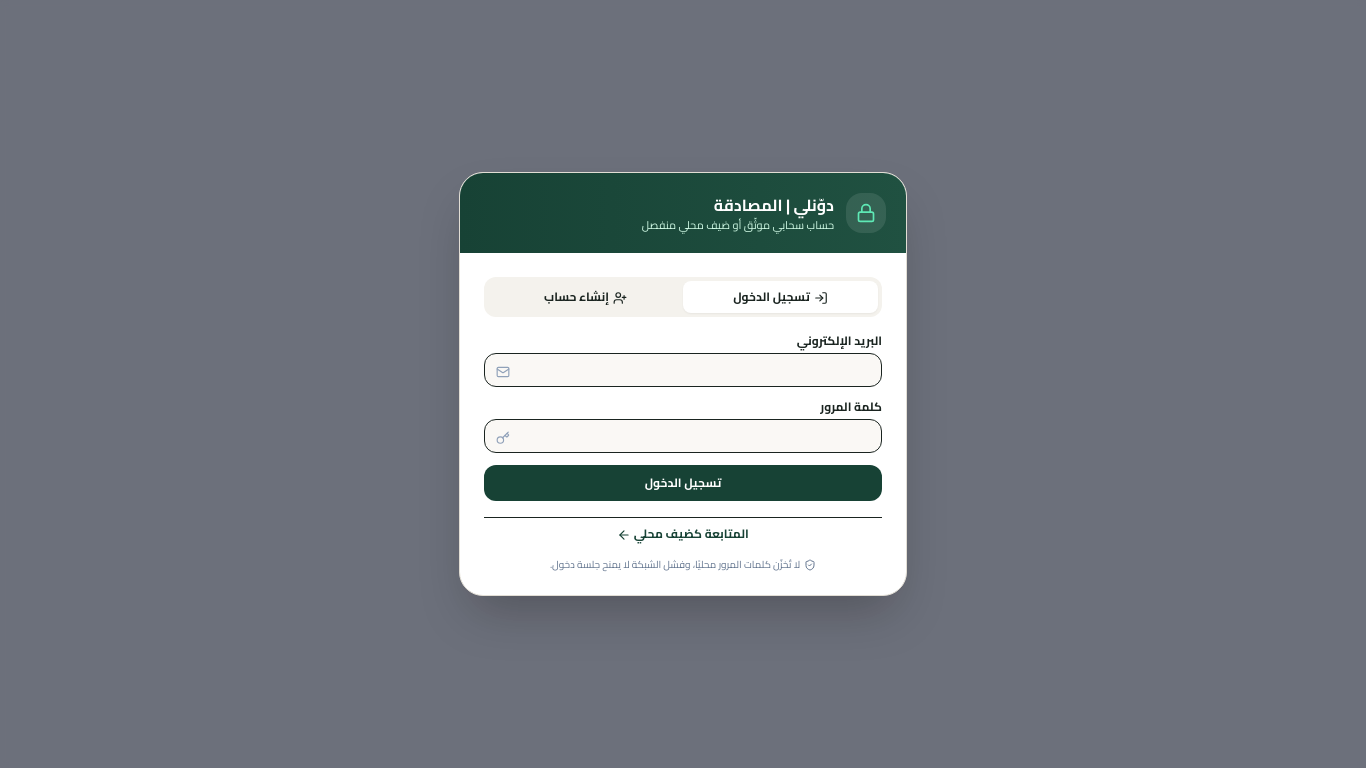
Test: AuthModal › shows a clear Arabic message for already registered emails
Click the button "إنشاء حساب".
click(586, 297)  # box [488,281,683,313]
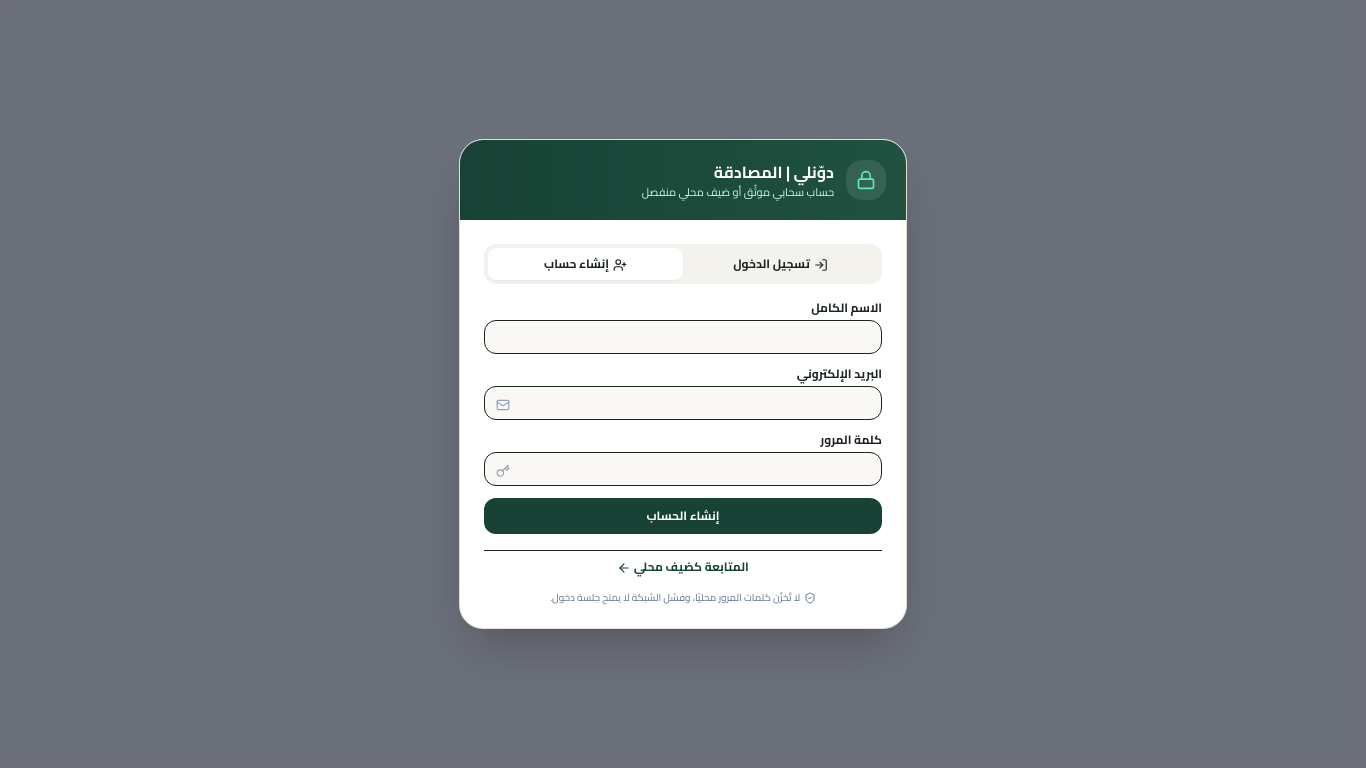
Type "مستخدم اختبار" into the field labelled "الاسم الكامل".
click(683, 337); type("مستخدم اختبار")  # box [484,320,882,354]
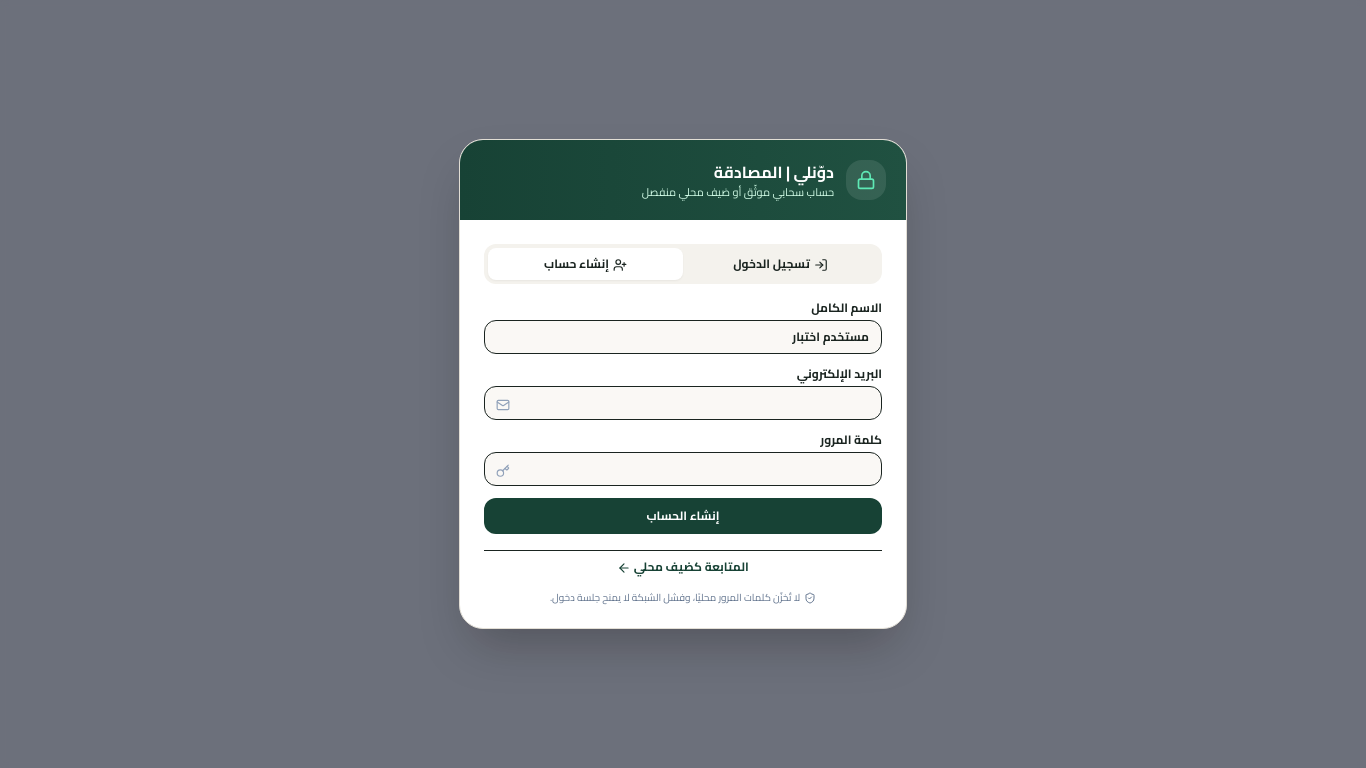
Type "user@gmail.com" into the field labelled "البريد الإلكتروني".
click(683, 403); type("user@gmail.com")  # box [484,386,882,420]
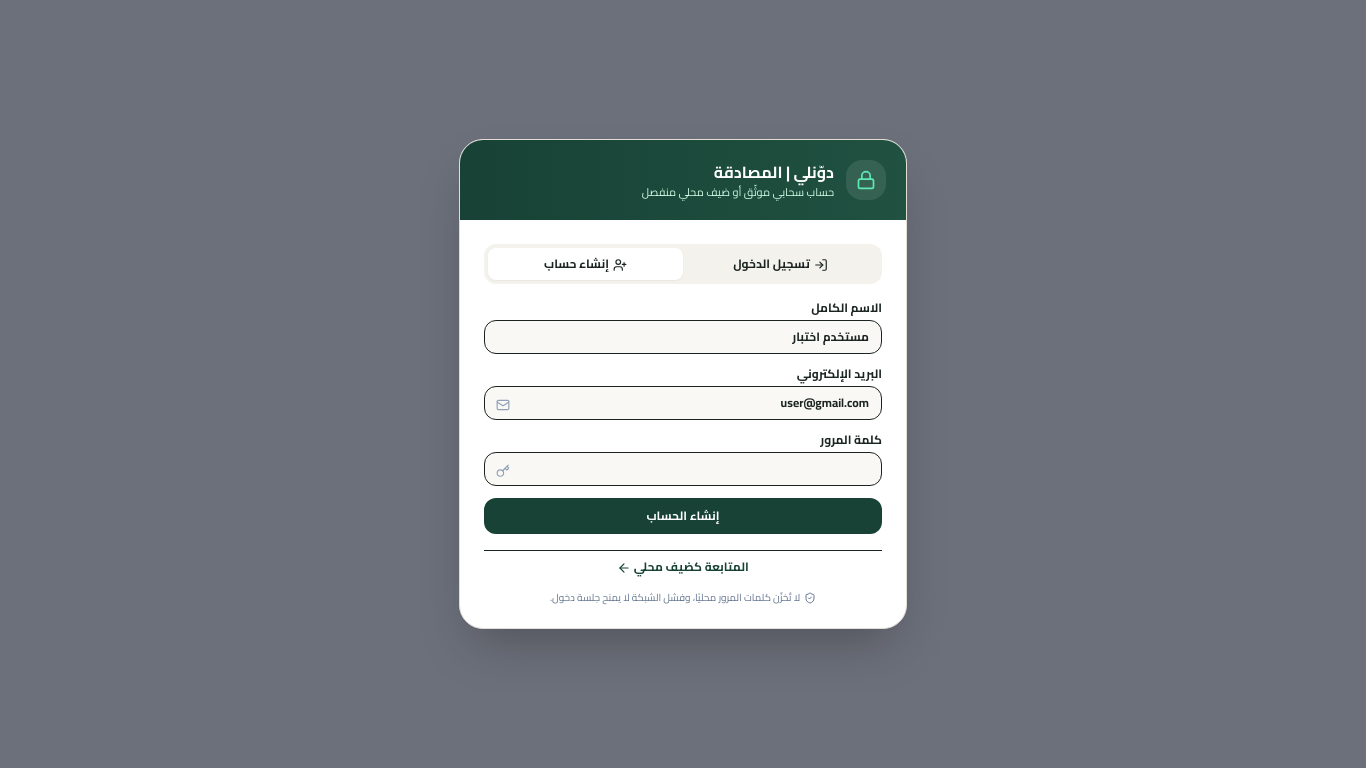
Type "StrongPass2026!" into the password field labelled "كلمة المرور".
click(683, 469); type("StrongPass2026!")  # box [484,452,882,486]
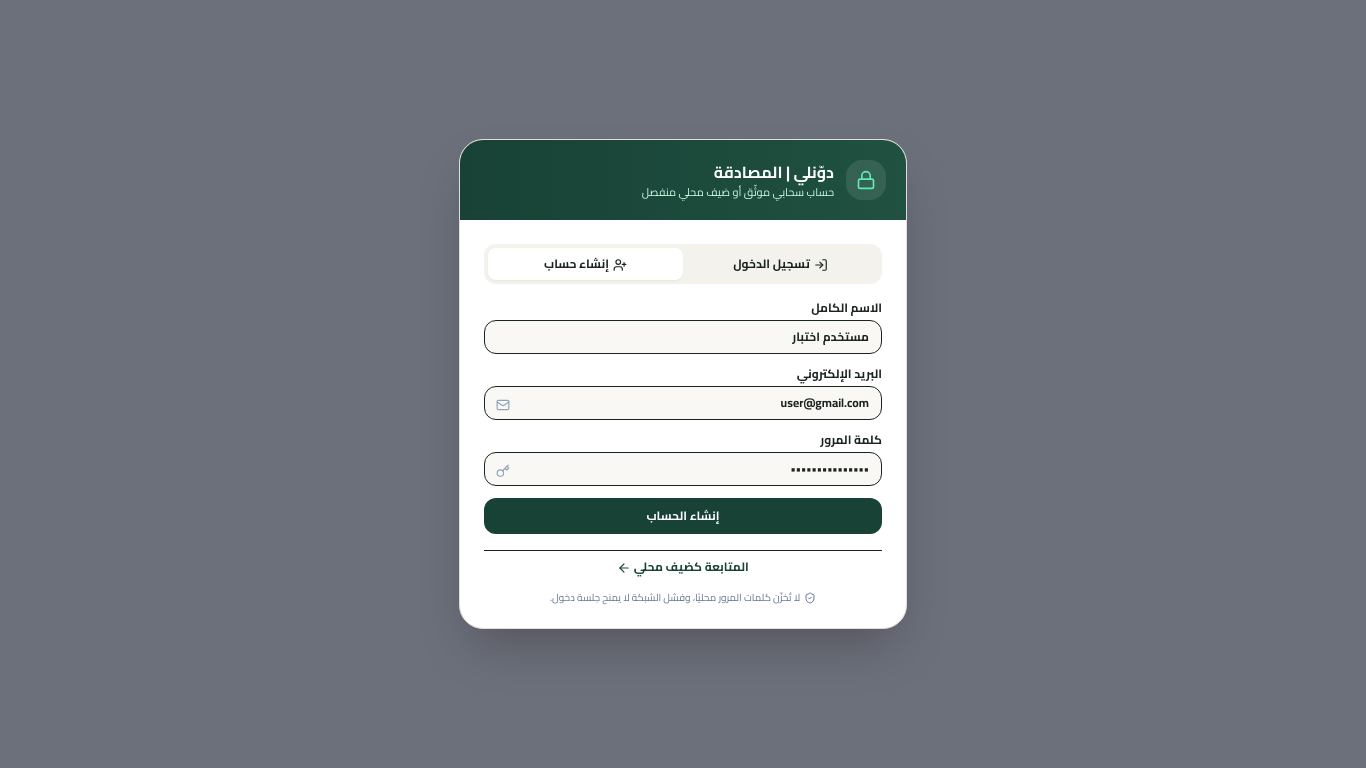
Click the button "إنشاء الحساب".
click(683, 516)  # box [484,498,882,534]
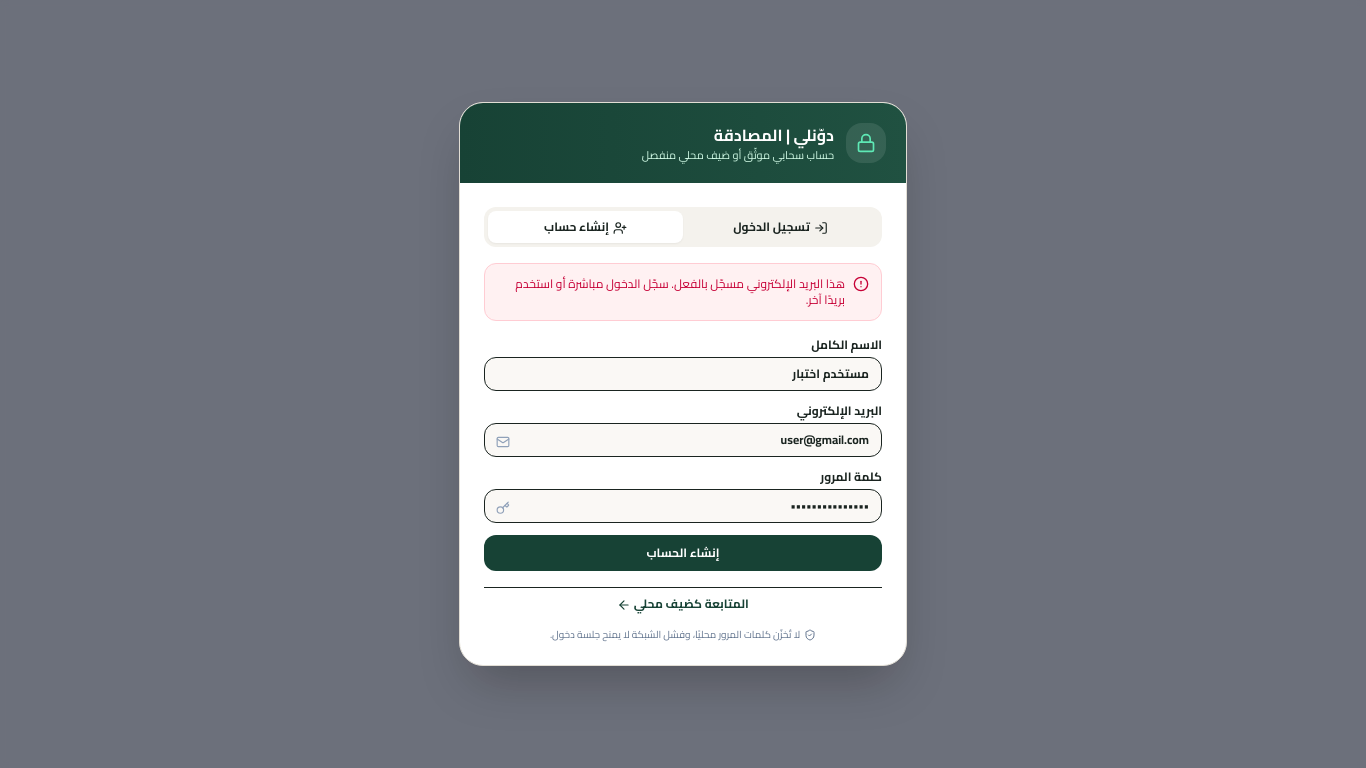
Expected: the message shows "مسجّل بالفعل", [515,272,845,311]
